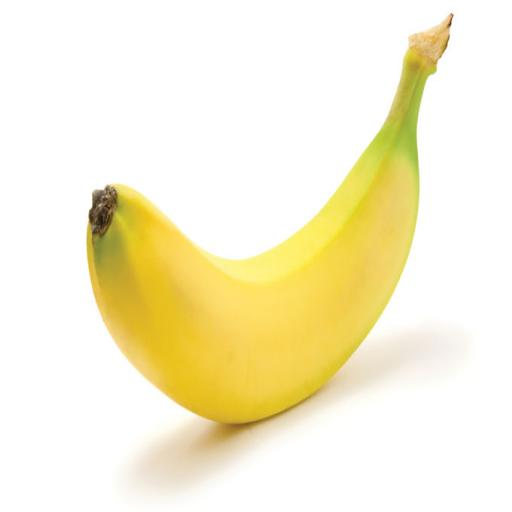banana: (87, 16, 452, 421)
